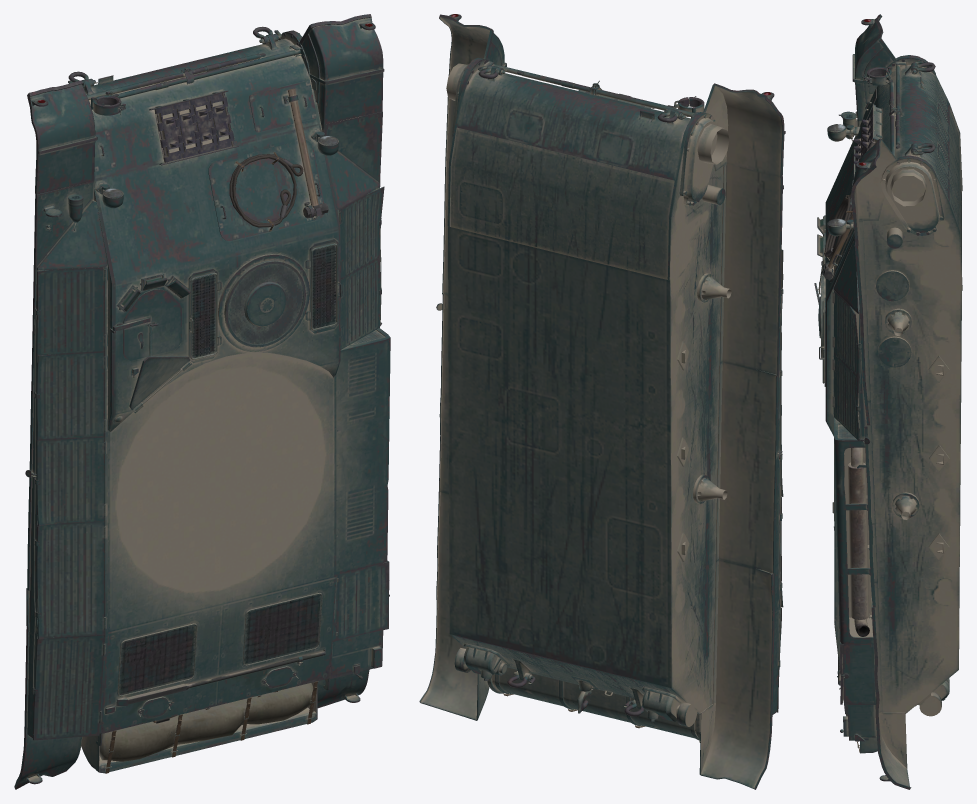
File: Hull.glb
The picture shows the model from 3 angles, left to right: view 1: azimuth 30°, elevation 25°; view 2: azimuth 150°, elevation 25°; view 3: azimuth 270°, elevation 25°; orthographic projection. The views are drawn at different scales.
Parts seen in each view (by area): view 1: set_0_group_0; view 2: set_0_group_0; view 3: set_0_group_0.
Part boxes in pixels (x1,y1,x2,y2): set_0_group_0: (14, 14, 390, 789); set_0_group_0: (419, 14, 785, 789); set_0_group_0: (814, 14, 962, 789).
Bounding box in the file's own units: 2.6 × 4.96 × 1.05.
1 material, 1 textured.
